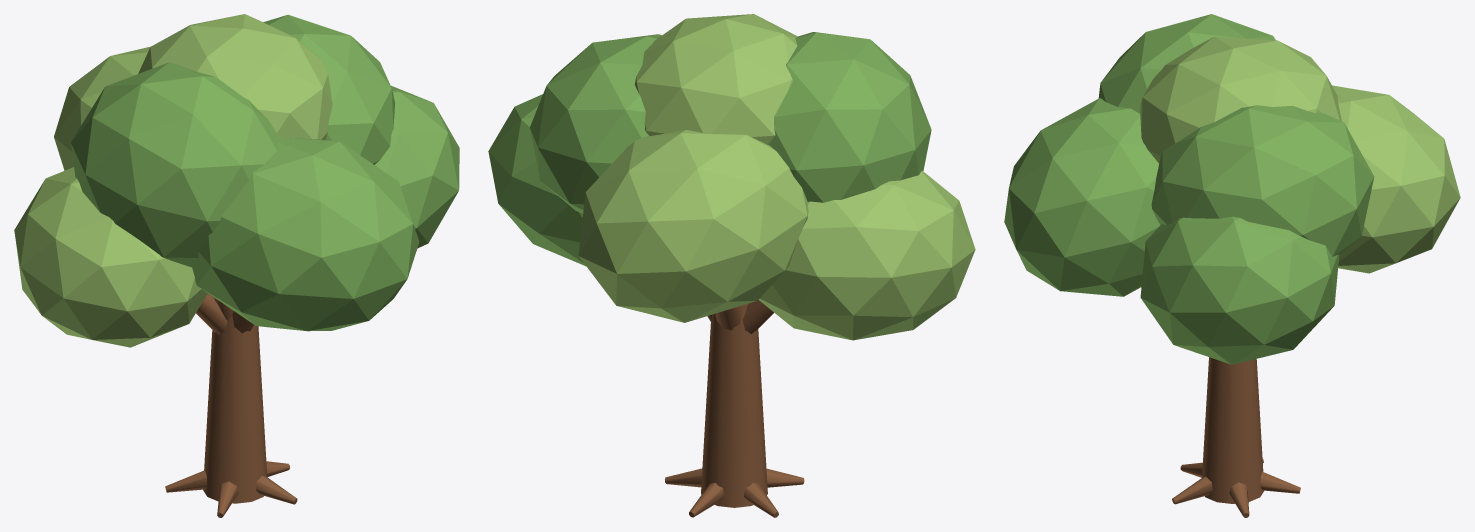
The model's file is tree_oak.glb.
The picture shows the model from 3 angles, left to right: view 1: azimuth 30°, elevation 25°; view 2: azimuth 150°, elevation 25°; view 3: azimuth 270°, elevation 25°; orthographic projection. The views are drawn at different scales.
Visible parts, largest first — view 1: Oak_Crown_02, Oak_Crown_04, Oak_Crown_00, Oak_Crown_06, Oak_Trunk, Oak_Crown_05, Oak_Crown_01, Oak_Crown_03, Oak_Bough_00, Oak_Root_05, Oak_Root_03; view 2: Oak_Crown_03, Oak_Crown_00, Oak_Crown_04, Oak_Crown_06, Oak_Crown_05, Oak_Trunk, Oak_Crown_01, Oak_Bough_00, Oak_Root_02, Oak_Root_03; view 3: Oak_Crown_02, Oak_Crown_05, Oak_Crown_01, Oak_Crown_03, Oak_Crown_06, Oak_Trunk, Oak_Crown_04, Oak_Root_05, Oak_Root_02.
Part boxes in pixels (x1,y1,x2,y2): Oak_Crown_02: [192, 137, 419, 331]; Oak_Crown_04: [71, 62, 281, 267]; Oak_Crown_00: [14, 167, 207, 347]; Oak_Crown_06: [138, 14, 332, 139]; Oak_Trunk: [203, 315, 267, 503]; Oak_Crown_05: [263, 14, 395, 164]; Oak_Crown_01: [375, 85, 459, 248]; Oak_Crown_03: [54, 46, 150, 170]; Oak_Bough_00: [196, 293, 227, 334]; Oak_Root_05: [256, 475, 297, 504]; Oak_Root_03: [165, 470, 206, 492]; Oak_Crown_03: [578, 129, 808, 322]; Oak_Crown_00: [758, 171, 975, 340]; Oak_Crown_04: [769, 32, 931, 202]; Oak_Crown_06: [635, 14, 797, 145]; Oak_Crown_05: [530, 34, 661, 213]; Oak_Trunk: [701, 303, 767, 507]; Oak_Crown_01: [488, 94, 586, 266]; Oak_Bough_00: [742, 300, 773, 333]; Oak_Root_02: [689, 483, 724, 517]; Oak_Root_03: [744, 483, 778, 517]; Oak_Crown_02: [1004, 98, 1160, 296]; Oak_Crown_05: [1151, 105, 1374, 256]; Oak_Crown_01: [1140, 216, 1339, 364]; Oak_Crown_03: [1332, 85, 1460, 273]; Oak_Crown_06: [1140, 36, 1341, 163]; Oak_Trunk: [1202, 357, 1263, 503]; Oak_Crown_04: [1098, 14, 1275, 113]; Oak_Root_05: [1172, 476, 1212, 504]; Oak_Root_02: [1260, 472, 1300, 493].
Size of the model in its own units: 6.61 by 6.69 by 6.21.
